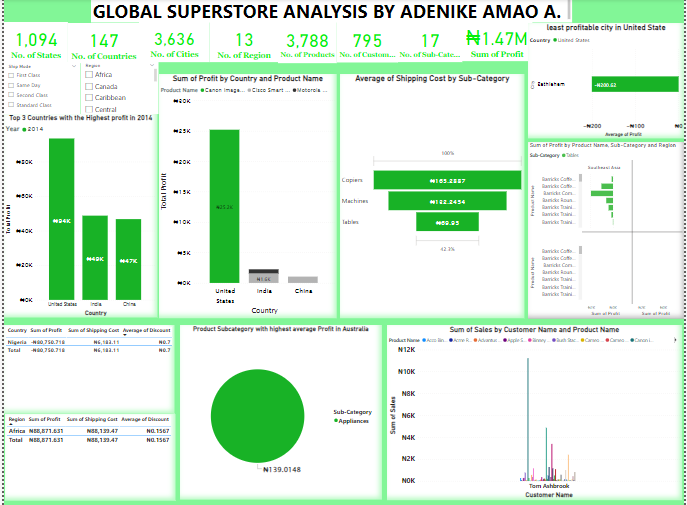

Layout of this report page (visuals, bound fields, positions):
{"tool":"powerbi","page":{"name":"Page 1","canvas":[2000,1500],"ordinal":0},"visuals":[{"type":"clusteredColumnChart","title":"Top 3 Countries with the Highest profit in 2014","fields":{"Category":["Orders.Country"],"Y":["Orders.Profit"],"Series":["Orders.Year"]},"box":[0,345.5,451.8,599.4],"z":0},{"type":"columnChart","fields":{"Category":["Orders.Country"],"Y":["Orders.Profit"],"Series":["Orders.Product Name"]},"box":[454.7,227.4,522.6,717.5],"z":1000},{"type":"funnel","fields":{"Category":["Orders.Sub-Category","Orders.Country"],"Y":["Orders.Shipping Cost"]},"box":[989.2,227.4,543.3,717.5],"z":2000},{"type":"card","fields":{"Values":["Orders.Country"]},"box":[187.5,75,210,117.5],"z":3000},{"type":"card","fields":{"Values":["Orders.City"]},"box":[398,68.6,207.8,123.5],"z":4000},{"type":"card","fields":{"Values":["Orders.Profit"]},"box":[1346.5,67.9,206.7,121.1],"z":5000},{"type":"card","fields":{"Values":["Orders.Region"]},"box":[605.9,74.5,200,117.6],"z":6000},{"type":"tableEx","fields":{"Values":["Orders.Country","Orders.Profit","Orders.Shipping Cost","Orders.Discount"]},"box":[0,965.6,502,259.8],"z":7000},{"type":"tableEx","fields":{"Values":["Orders.Region","Orders.Profit","Orders.Shipping Cost","Orders.Discount"]},"box":[3,1225.4,502,253.9],"z":8000},{"type":"clusteredBarChart","title":"least profitable city in United State ","fields":{"Category":["Orders.City"],"Y":["Orders.Profit"],"Series":["Orders.Country"]},"box":[1540,75,460,340],"z":9000},{"type":"pieChart","title":"Product Subcategory  with highest average Profit  in Australia","fields":{"Category":["Orders.Sub-Category"],"Y":["Orders.Profit"],"Series":["Orders.Country"]},"box":[516.7,965.6,593.5,513.8],"z":10000},{"type":"clusteredColumnChart","fields":{"Category":["Orders.Customer Name"],"Series":["Orders.Product Name"],"Y":["Orders.Sales"]},"box":[1125,965,867.5,515],"z":11000},{"type":"card","fields":{"Values":["Orders.Customer Name"]},"box":[978.4,70.6,178.4,121.6],"z":12000},{"type":"card","fields":{"Values":["Orders.Product Name"]},"box":[805.9,70.6,172.5,123.5],"z":13000},{"type":"slicer","fields":{"Values":["Orders.Ship Mode"]},"box":[0,192,225,153],"z":14000},{"type":"card","fields":{"Values":["Orders.State"]},"box":[0,74.5,188.2,117.6],"z":15000},{"type":"card","fields":{"Values":["Orders.Sub-Category"]},"box":[1154.9,74.5,192.2,117.6],"z":16000},{"type":"textbox","box":[255,0,1415,75],"z":17000},{"type":"slicer","fields":{"Values":["Orders.Region"]},"box":[225,189,228,156],"z":18000},{"type":"clusteredBarChart","fields":{"Category":["Orders.Product Name"],"Series":["Orders.Sub-Category"],"Y":["Orders.Profit"],"Rows":["Orders.Region"]},"box":[1541.3,425.2,460.6,519.7],"z":19000}]}

Visuals, with their boxes in screenshot pixels (x1, y1, x2, y2), scaled from the page's 2000x1500 canvas onto the 687x505 screenshot:
"Top 3 Countries with the Highest profit in 2014" clusteredColumnChart: crop(0, 116, 155, 318)
columnChart - Orders.Country x Orders.Profit: crop(156, 77, 336, 318)
funnel - Orders.Sub-Category x Orders.Country: crop(340, 77, 526, 318)
card - Orders.Country: crop(64, 25, 137, 65)
card - Orders.City: crop(137, 23, 208, 65)
card - Orders.Profit: crop(463, 23, 534, 64)
card - Orders.Region: crop(208, 25, 277, 65)
tableEx - Orders.Country x Orders.Profit: crop(0, 325, 172, 413)
tableEx - Orders.Region x Orders.Profit: crop(1, 413, 173, 498)
"least profitable city in United State " clusteredBarChart: crop(529, 25, 686, 140)
"Product Subcategory  with highest average Profit  in Australia" pieChart: crop(177, 325, 381, 498)
clusteredColumnChart - Orders.Customer Name x Orders.Product Name: crop(386, 325, 684, 498)
card - Orders.Customer Name: crop(336, 24, 397, 65)
card - Orders.Product Name: crop(277, 24, 336, 65)
slicer - Orders.Ship Mode: crop(0, 65, 77, 116)
card - Orders.State: crop(0, 25, 65, 65)
card - Orders.Sub-Category: crop(397, 25, 463, 65)
textbox: crop(88, 0, 574, 25)
slicer - Orders.Region: crop(77, 64, 156, 116)
clusteredBarChart - Orders.Product Name x Orders.Sub-Category: crop(529, 143, 686, 318)
